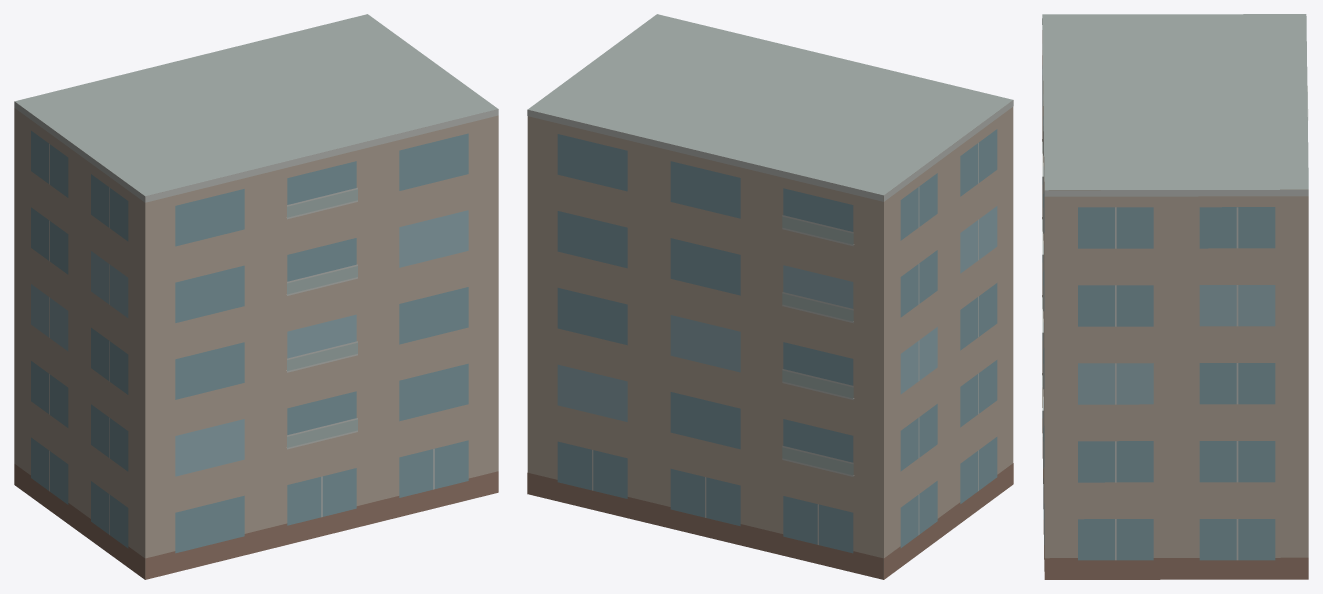
The model's file is survey-upis-32837707.glb.
The picture shows the model from 3 angles, left to right: view 1: azimuth 30°, elevation 25°; view 2: azimuth 150°, elevation 25°; view 3: azimuth 270°, elevation 25°; orthographic projection.
Parts seen in each view (by area): view 1: survey-upis-32837707.tmp; view 2: survey-upis-32837707.tmp; view 3: survey-upis-32837707.tmp.
Part boxes in pixels (x1,y1,x2,y2): survey-upis-32837707.tmp: (14,14,498,579); survey-upis-32837707.tmp: (527,14,1013,579); survey-upis-32837707.tmp: (1042,14,1308,579).
Size of the model in its own units: 14.01 by 14.45 by 8.97.
